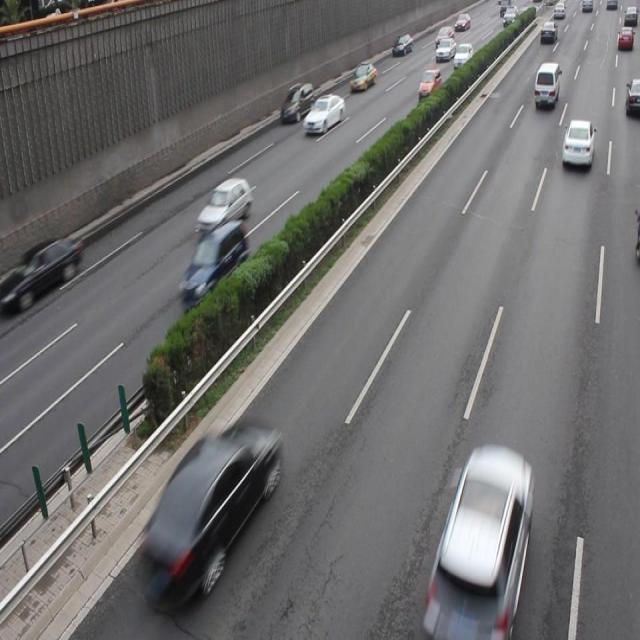car: (136, 423, 276, 592), (428, 444, 532, 626), (177, 219, 249, 307), (16, 234, 81, 305), (197, 177, 250, 234), (302, 93, 344, 135), (560, 118, 594, 168), (279, 81, 313, 122)
